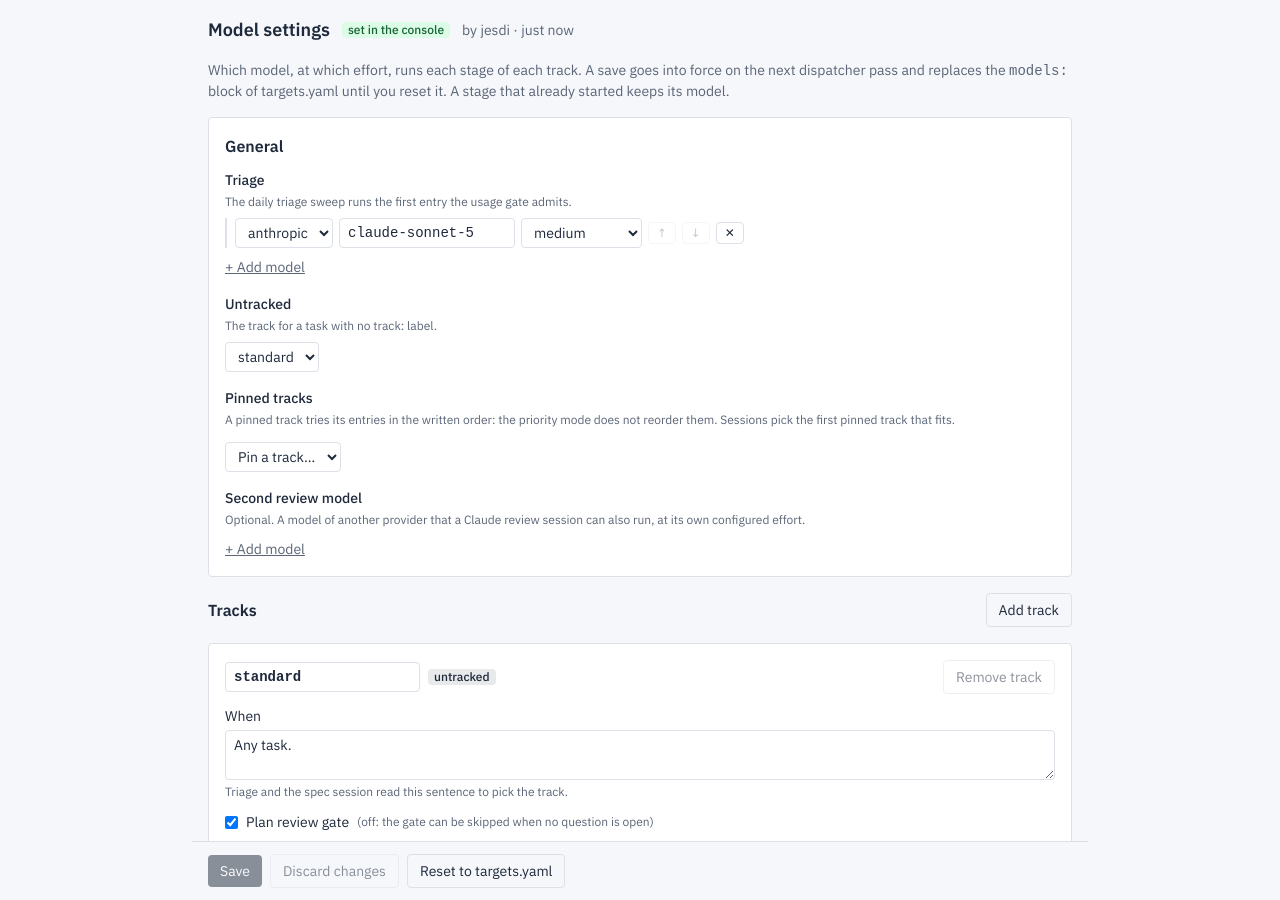
Scenario: keeps edits on the view they were made on when a newer one arrives
Type " Mine." into the text box named "When standard" at point(640, 755), box [225,730,1055,780]
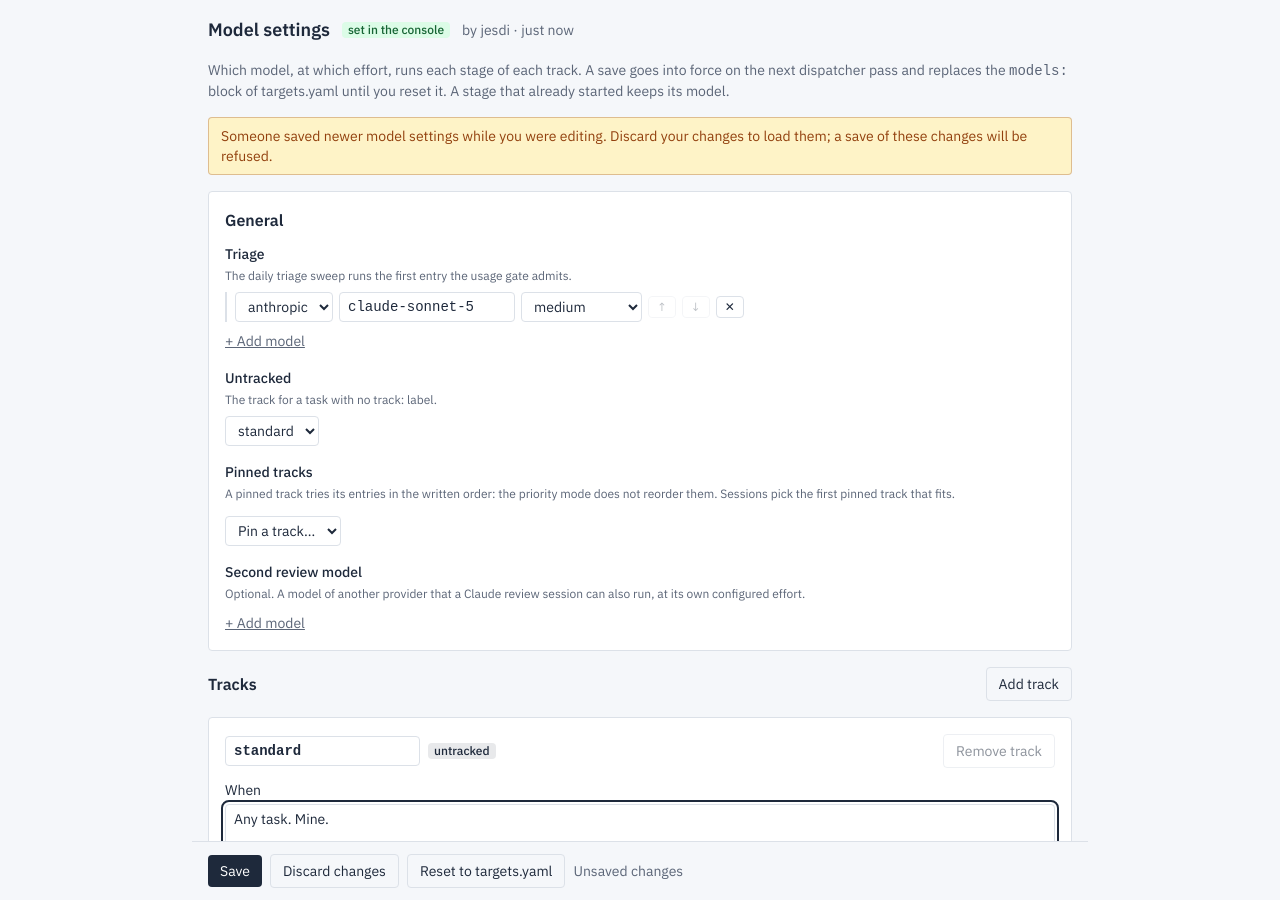
Expected: the text "Someone saved newer model settings" is shown, [221,127,1027,165]
Expected: the text box named "When standard" holds "Any task. Mine.", [225,804,1055,854]
Click the button "Save" at point(235, 871), box [208,855,262,887]
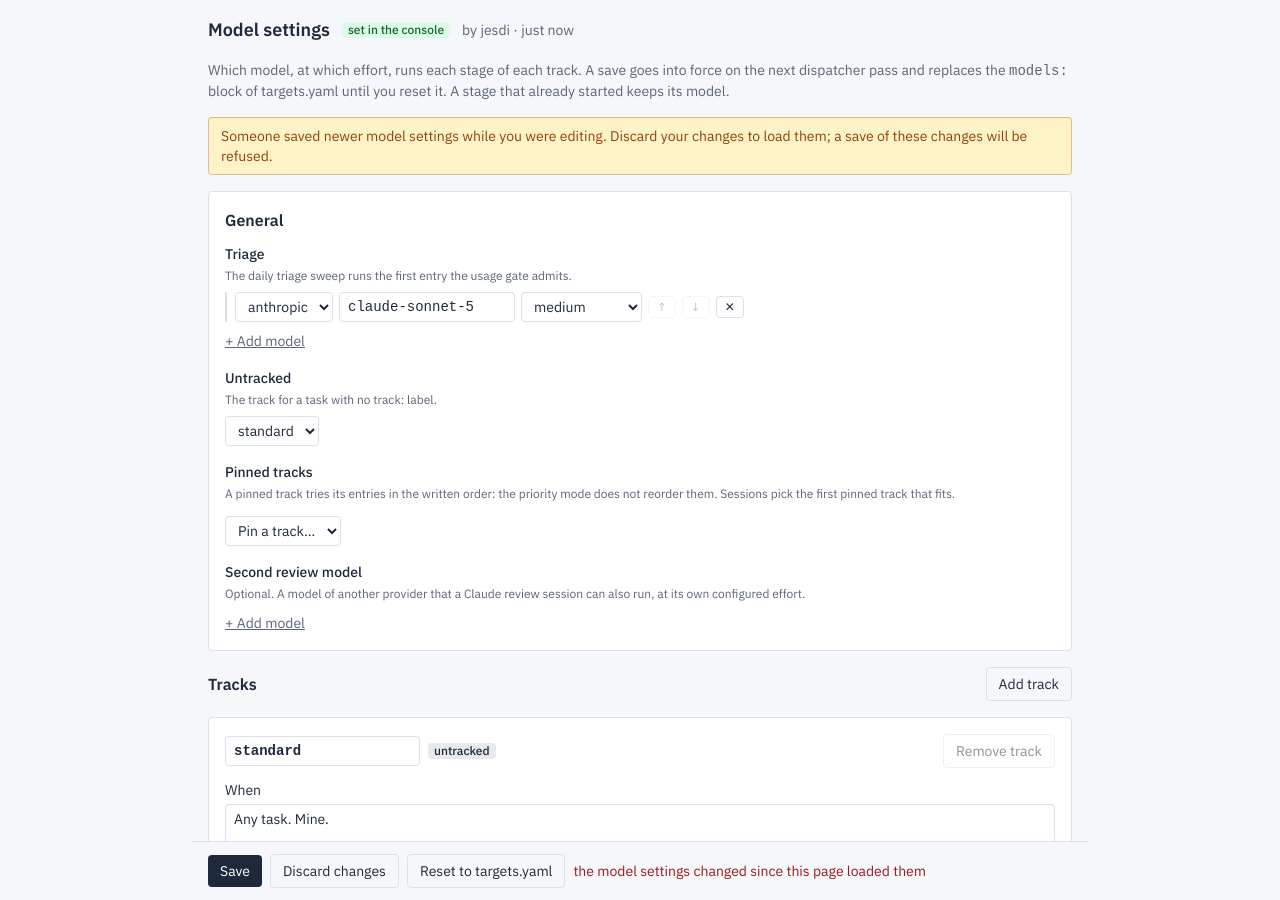
Expected: the message "the model settings changed since this page loaded them" is shown, [573,861,926,881]
Click the button "Discard changes" at point(334, 871), box [270,854,399,888]
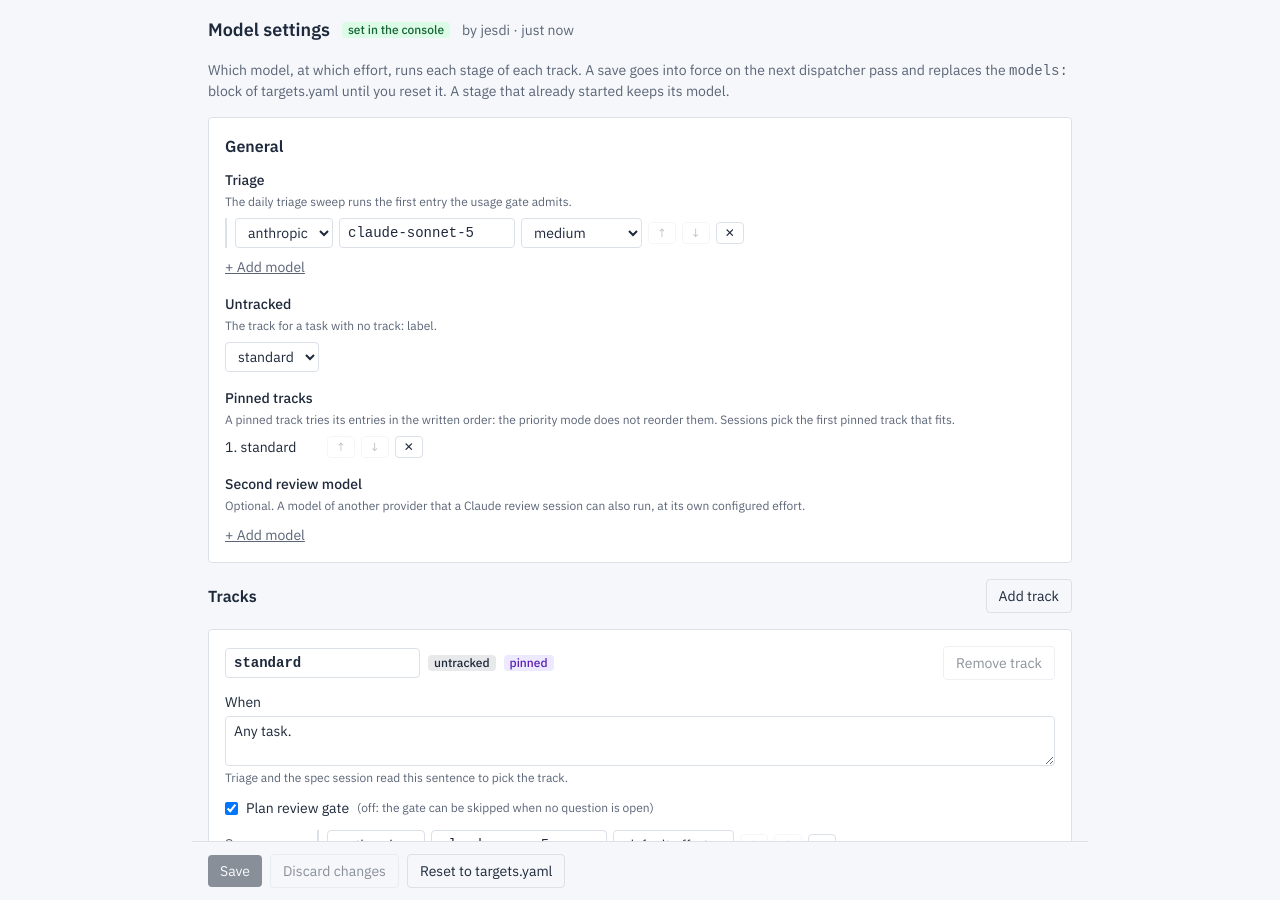
Expected: the text box named "When standard" holds "Any task.", [225,716,1055,766]
Expected: the text "1. standard" is shown, [225,438,296,456]
